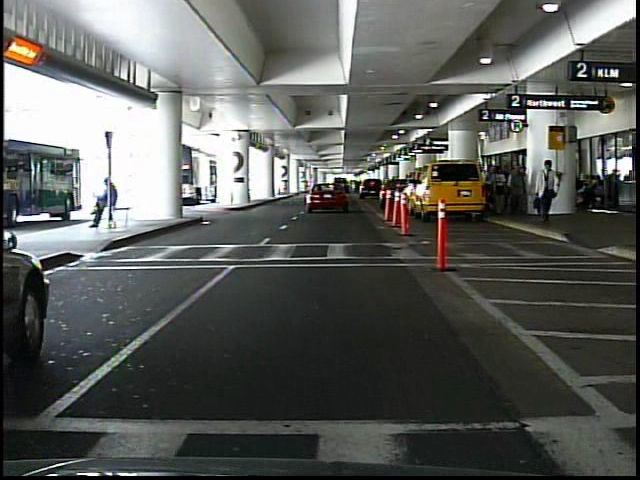person: (531, 157, 561, 221), (510, 163, 529, 219), (493, 166, 508, 215)
